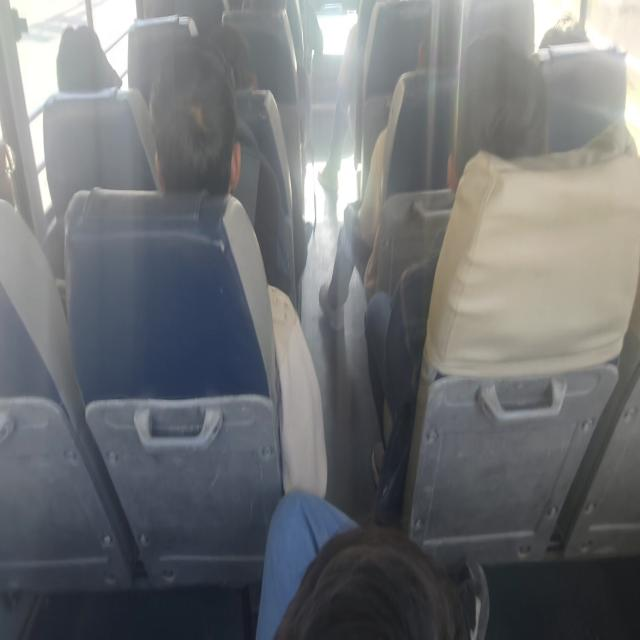person: (363, 32, 549, 519), (148, 36, 328, 497), (148, 36, 298, 312), (255, 489, 490, 638), (318, 32, 435, 330), (56, 23, 122, 93)
